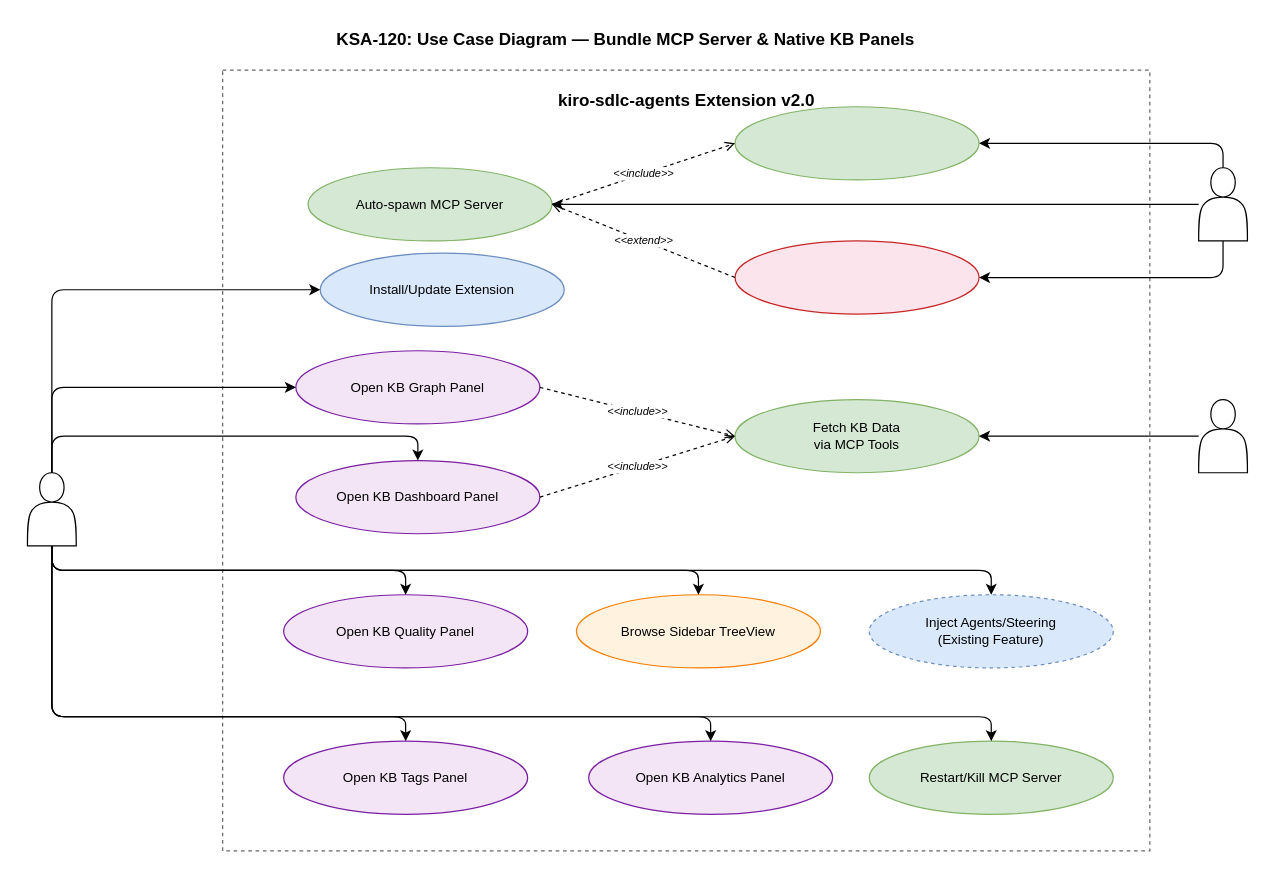
Image size: 1269x872. Some labels were removed from this diagram. Here are the shapes that lost their labels. From the top down, the centre of each, then its label:
the point at 856,143: Auto-inject mcp.json
the point at 1222,204: VS Code Runtime
the point at 856,277: Handle Server Crash (Auto-restart)
the point at 1222,435: MCP Server
the point at 51,509: Developer
